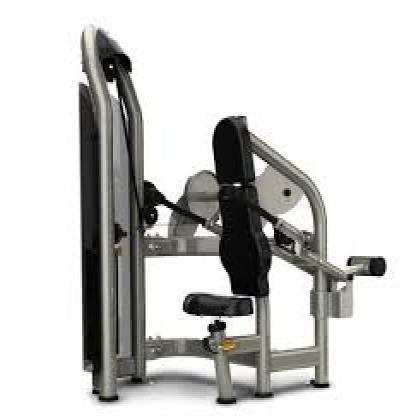seated dip machine: (72, 15, 387, 407)
